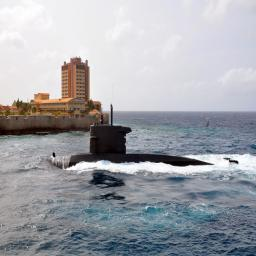submarine: (38, 103, 239, 170)
